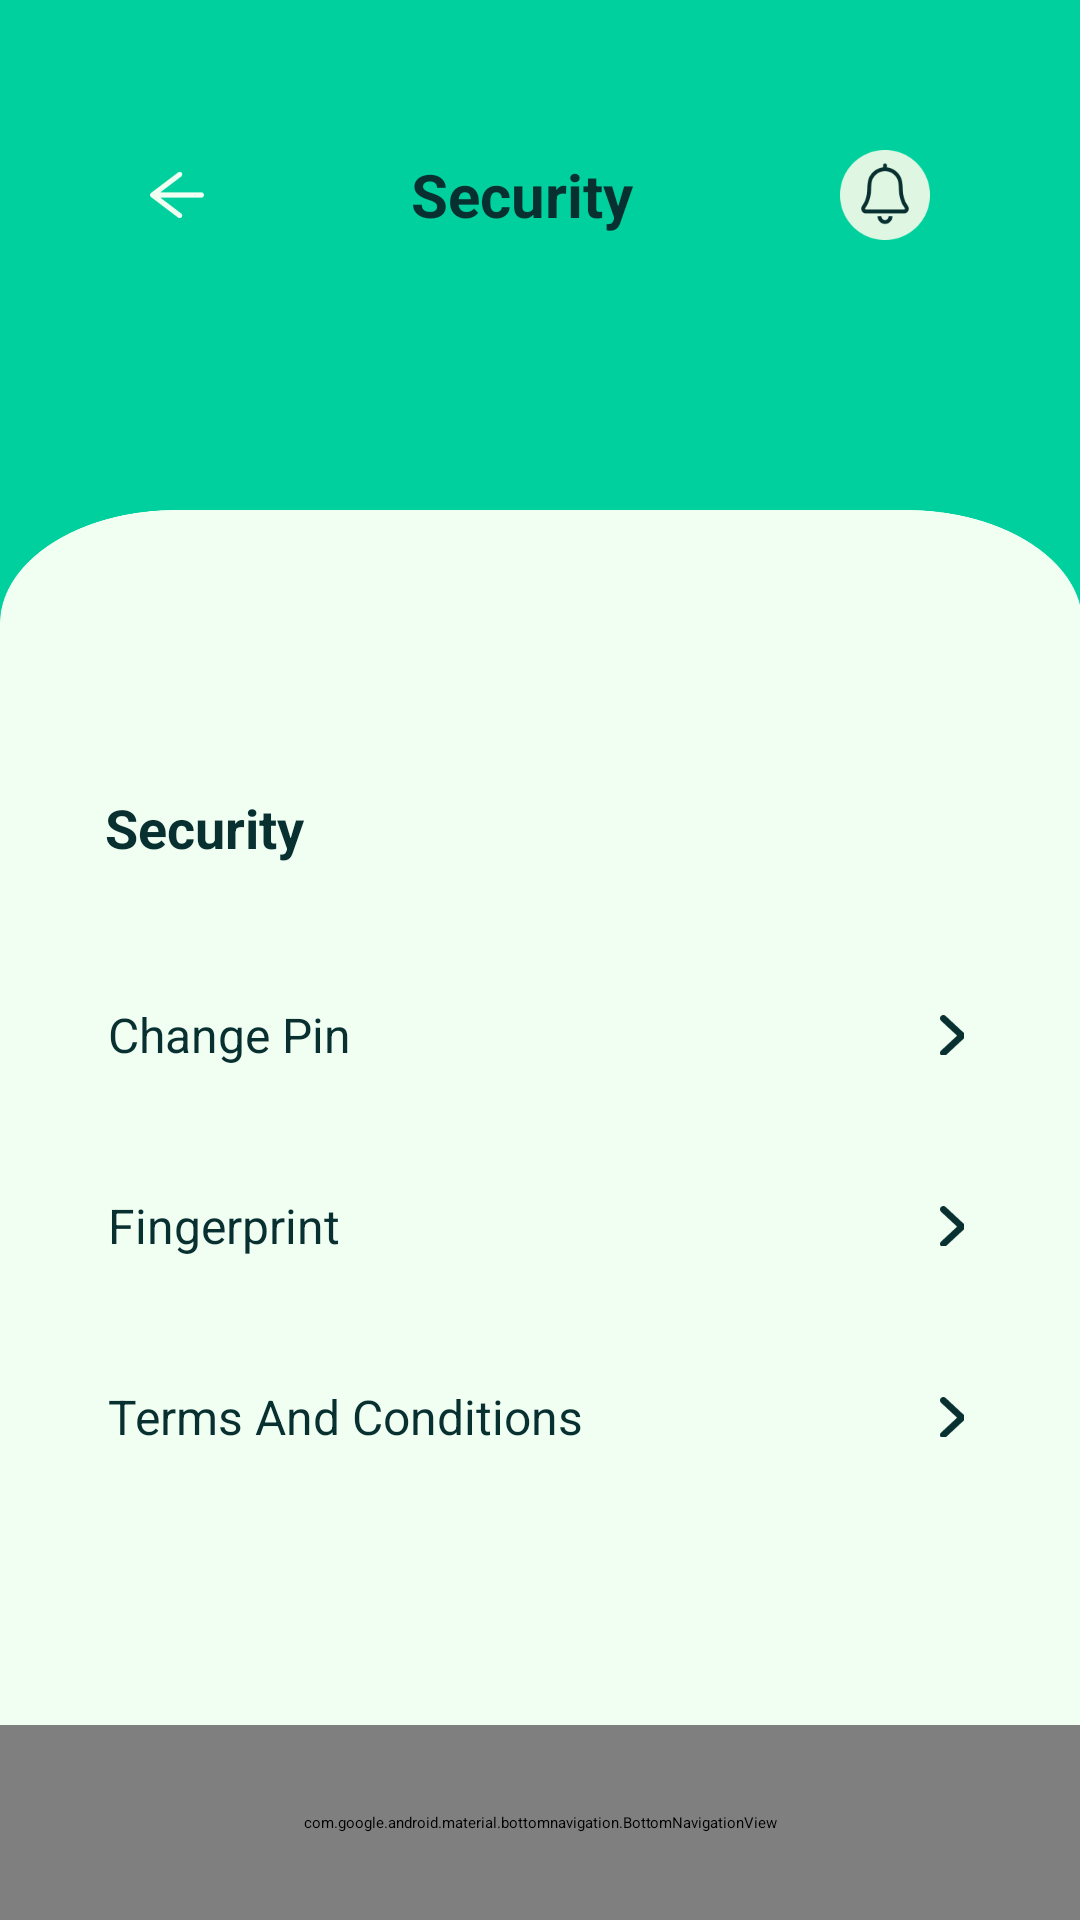

Where icons sit on this 1080px x 1920px app screen, as [x1, y1, x2, y2]:
Arrow Icon: [940, 1015, 964, 1055], [940, 1206, 964, 1246], [940, 1397, 964, 1437]
Back Icon: [150, 172, 204, 218]
Notification Icon: [840, 150, 930, 240]
